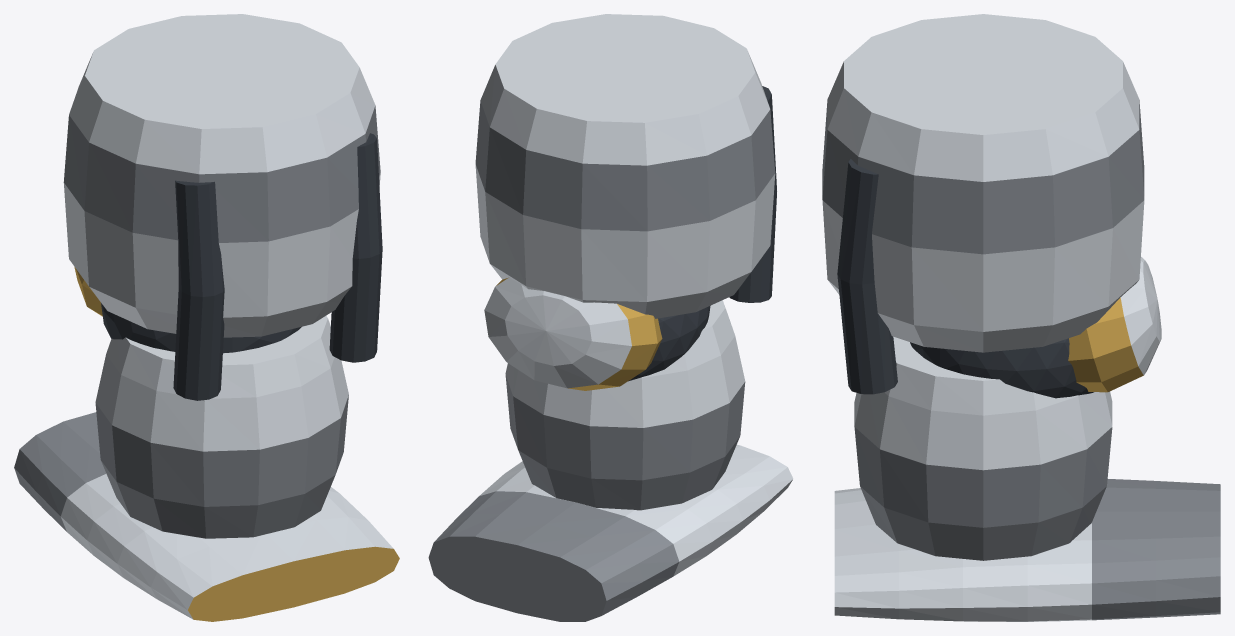
File: GolemLeg.obj
3 renders of one model, left to right at view 1: azimuth 30°, elevation 25°; view 2: azimuth 150°, elevation 25°; view 3: azimuth 270°, elevation 25°, orthographic. The views are drawn at different scales.
Size of the model in its own units: 0.6 by 1.02 by 0.722.
